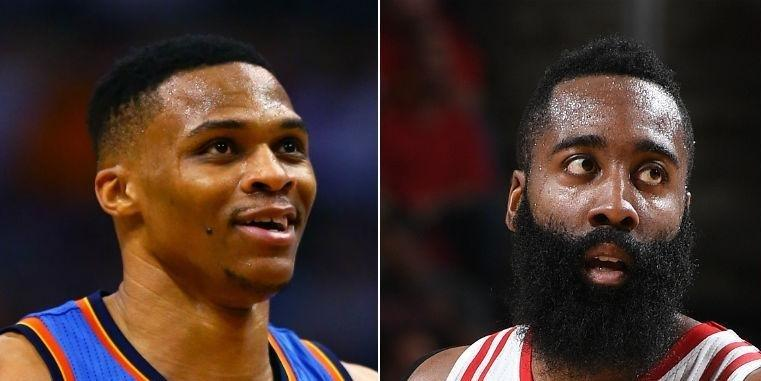feliz: (70, 34, 331, 304)
surpreso: (478, 28, 729, 369)
